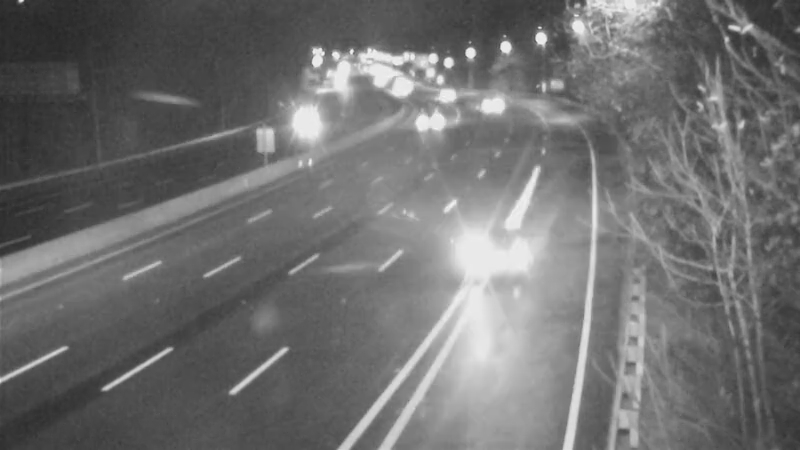vehicle: (458, 209, 538, 289), (417, 69, 467, 119), (460, 82, 510, 132), (404, 94, 454, 144), (283, 100, 333, 150)
